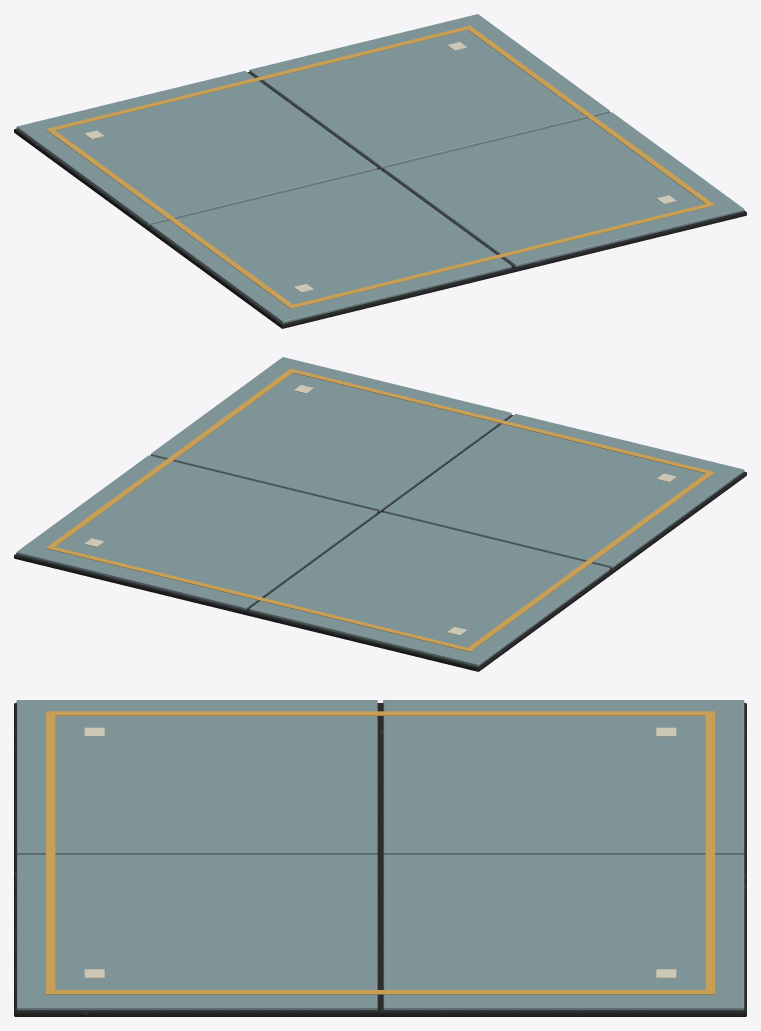
The model's file is lbd_floor_gathering.glb.
The picture shows the model from 3 angles, top to bottom: view 1: azimuth 30°, elevation 25°; view 2: azimuth 150°, elevation 25°; view 3: azimuth 270°, elevation 25°; orthographic projection. The views are drawn at different scales.
Parts seen in each view (by area): view 1: floor_gathering__matte tile_006, floor_gathering__matte tile_012, floor_gathering__matte tile_009, floor_gathering__matte tile_015, floor_gathering__substrate_003, floor_gathering__border_024, floor_gathering__border_027, floor_gathering__border_018, floor_gathering__border_021; view 2: floor_gathering__matte tile_009, floor_gathering__matte tile_015, floor_gathering__matte tile_006, floor_gathering__matte tile_012, floor_gathering__substrate_003, floor_gathering__border_027, floor_gathering__border_024, floor_gathering__border_018, floor_gathering__border_021; view 3: floor_gathering__matte tile_012, floor_gathering__matte tile_015, floor_gathering__matte tile_006, floor_gathering__matte tile_009, floor_gathering__substrate_003, floor_gathering__border_018, floor_gathering__border_021, floor_gathering__border_024, floor_gathering__border_027.
Boxes of the visible parts, x1,y1,x2,y2 form: floor_gathering__matte tile_006: [151, 169, 511, 323]; floor_gathering__matte tile_012: [383, 112, 744, 266]; floor_gathering__matte tile_009: [16, 71, 377, 225]; floor_gathering__matte tile_015: [249, 14, 609, 168]; floor_gathering__substrate_003: [14, 72, 746, 328]; floor_gathering__border_024: [287, 202, 714, 308]; floor_gathering__border_027: [46, 26, 470, 131]; floor_gathering__border_018: [46, 128, 296, 308]; floor_gathering__border_021: [465, 25, 715, 206]; floor_gathering__matte tile_009: [249, 512, 609, 666]; floor_gathering__matte tile_015: [16, 455, 377, 609]; floor_gathering__matte tile_006: [383, 414, 744, 568]; floor_gathering__matte tile_012: [151, 357, 511, 511]; floor_gathering__substrate_003: [14, 415, 746, 671]; floor_gathering__border_027: [46, 545, 473, 651]; floor_gathering__border_024: [290, 370, 714, 474]; floor_gathering__border_018: [464, 471, 714, 651]; floor_gathering__border_021: [45, 368, 295, 549]; floor_gathering__matte tile_012: [16, 855, 377, 1010]; floor_gathering__matte tile_015: [383, 855, 744, 1010]; floor_gathering__matte tile_006: [16, 700, 377, 854]; floor_gathering__matte tile_009: [383, 700, 744, 854]; floor_gathering__substrate_003: [14, 703, 746, 1016]; floor_gathering__border_018: [46, 711, 714, 715]; floor_gathering__border_021: [46, 990, 714, 994]; floor_gathering__border_024: [46, 712, 55, 993]; floor_gathering__border_027: [705, 715, 714, 994].
Bounding box in the file's own units: 2 × 0.03 × 2.
4 materials, 1 textured.
